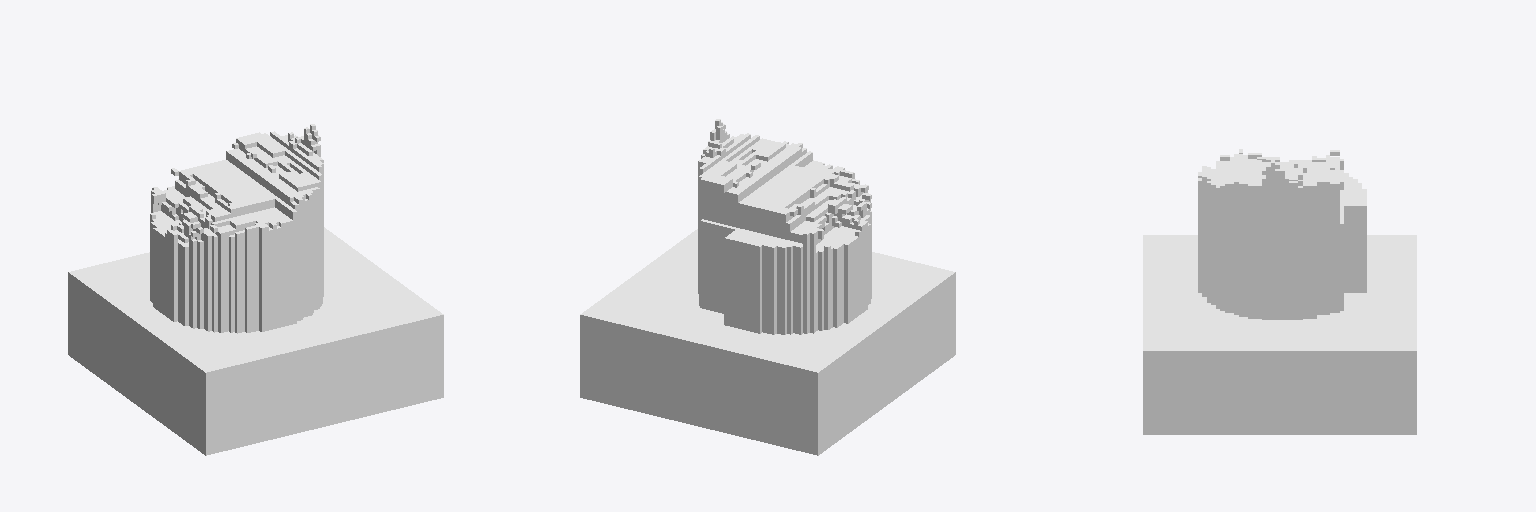
File: chichenitza3.obj
The picture shows the model from 3 angles: view 1: azimuth 30°, elevation 25°; view 2: azimuth 150°, elevation 25°; view 3: azimuth 270°, elevation 25°; orthographic projection.
Size of the model in its own units: 60 by 58 by 60.